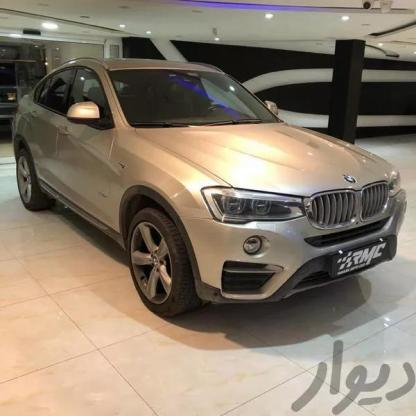Car: (14, 56, 405, 316)
